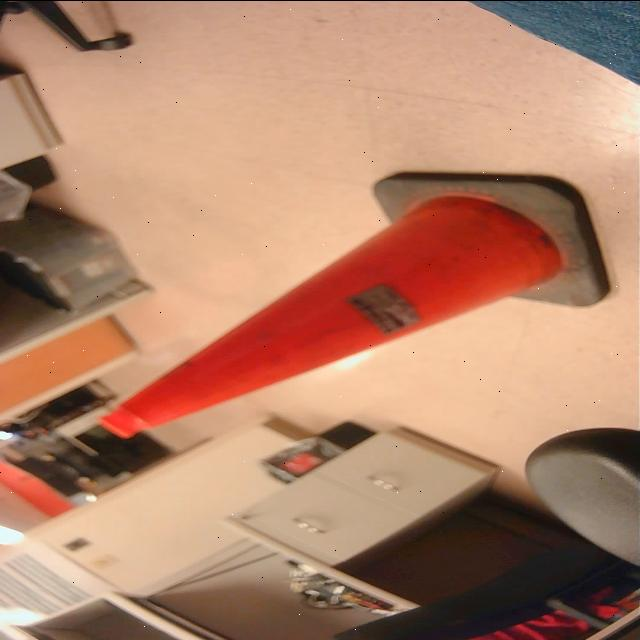traffic cone: (93, 167, 619, 443)
